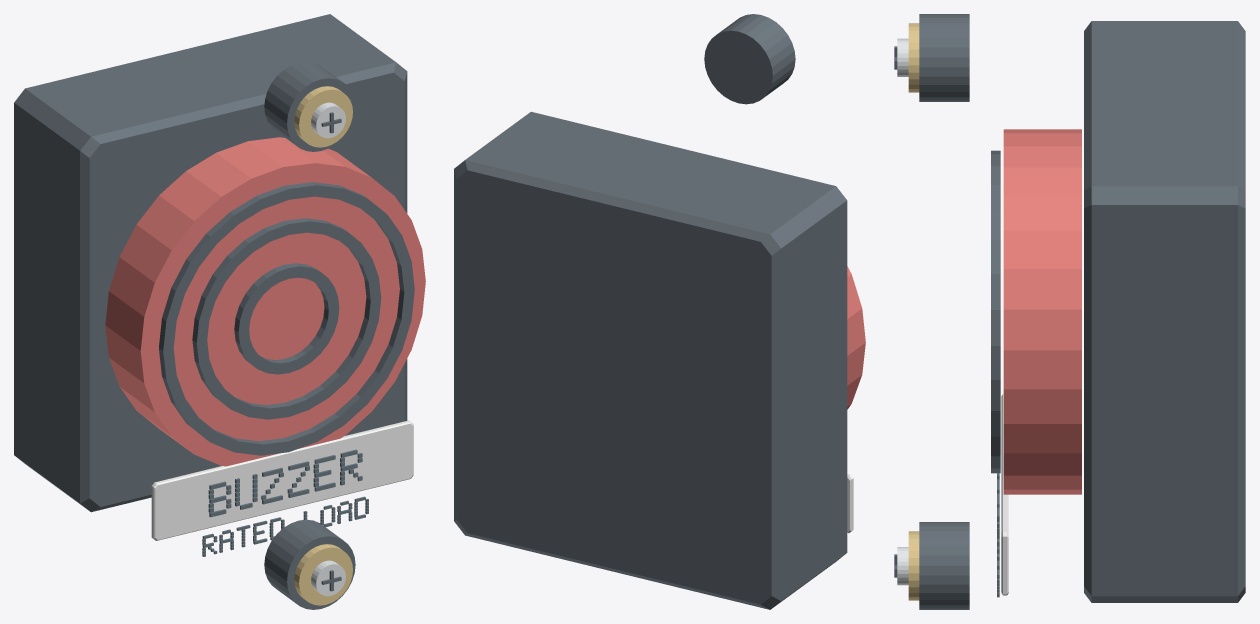
File: buzzer.glb
The picture shows the model from 3 angles, left to right: view 1: azimuth 30°, elevation 25°; view 2: azimuth 150°, elevation 25°; view 3: azimuth 270°, elevation 25°; orthographic projection. The views are drawn at different scales.
Parts seen in each view (by area): view 1: buzzer-detailed; view 2: buzzer-detailed; view 3: buzzer-detailed.
Boxes of the visible parts, x1,y1,x2,y2 form: buzzer-detailed: (14, 14, 425, 609); buzzer-detailed: (454, 14, 865, 609); buzzer-detailed: (894, 14, 1245, 609).
Bounding box in the file's own units: 1.5 × 2.31 × 1.25.
